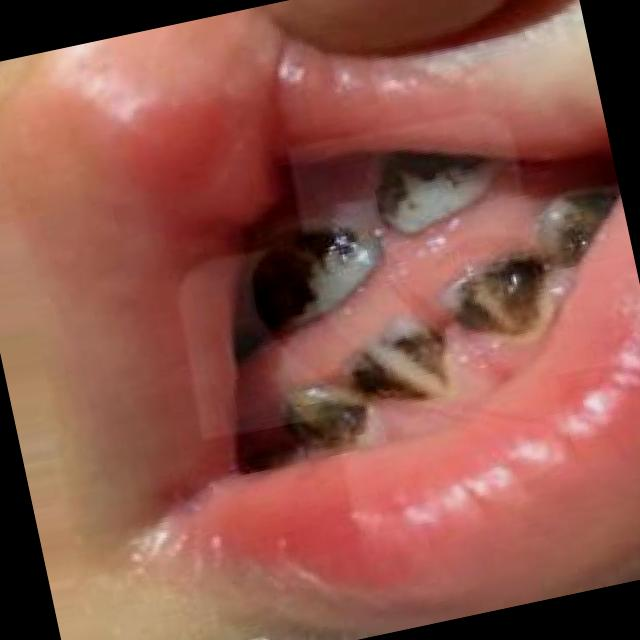caries: (212, 194, 384, 342), (355, 116, 513, 252), (349, 307, 462, 424), (447, 250, 551, 361), (260, 361, 354, 468), (530, 180, 620, 270)
